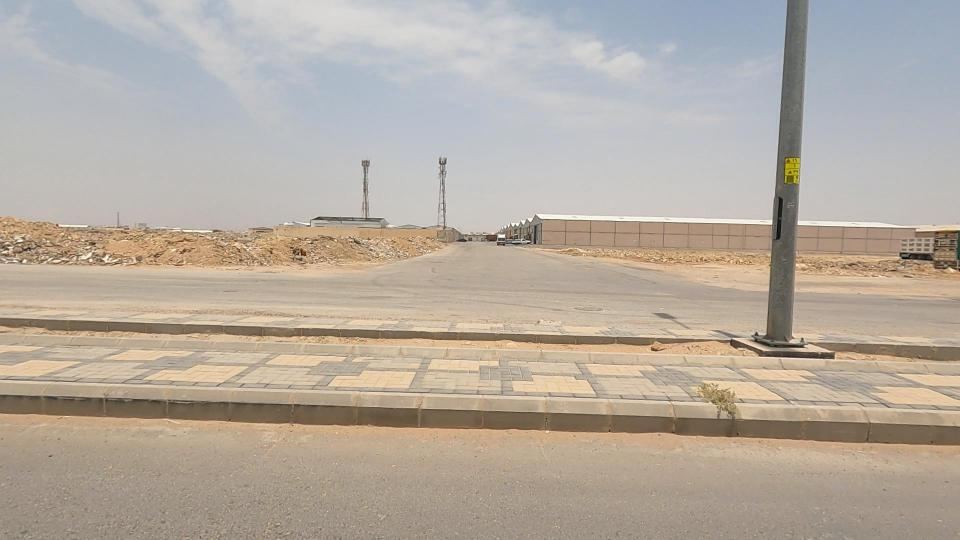GARBAGE: (50, 223, 151, 282), (0, 218, 87, 278), (324, 225, 417, 274), (273, 237, 328, 278)
